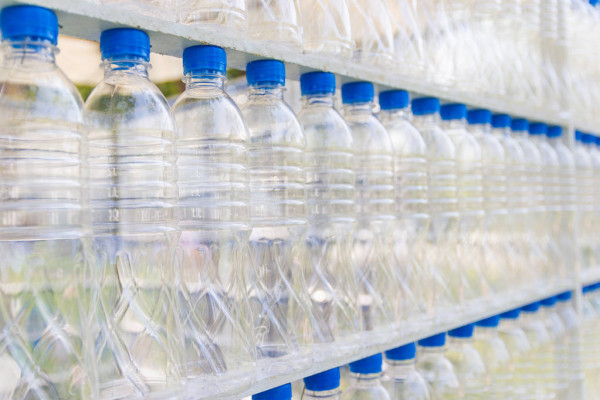plastic_bottle: (50, 1, 187, 398), (1, 1, 115, 399), (148, 1, 259, 399), (446, 42, 555, 400), (214, 1, 307, 396), (358, 67, 464, 400), (290, 21, 381, 400), (337, 58, 425, 400), (429, 26, 505, 400), (514, 38, 586, 400), (474, 68, 543, 400), (409, 54, 455, 400), (492, 75, 537, 400), (558, 55, 600, 358), (493, 241, 546, 400), (402, 247, 457, 400), (541, 228, 583, 400), (443, 265, 494, 400), (566, 203, 600, 400), (472, 275, 521, 400), (522, 256, 562, 400), (336, 314, 394, 400), (380, 282, 422, 400), (291, 337, 351, 400), (242, 368, 295, 400)
